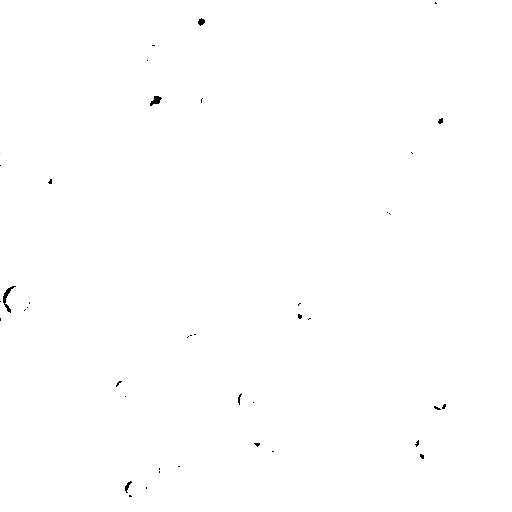micro-algae: (452, 0, 506, 39), (216, 23, 260, 69), (410, 445, 449, 487), (419, 383, 455, 419), (205, 49, 238, 86), (261, 193, 293, 226), (1, 282, 31, 316), (185, 4, 215, 38), (132, 42, 165, 69), (451, 45, 481, 73), (179, 272, 215, 295), (349, 411, 379, 435), (415, 431, 438, 461), (257, 435, 283, 461), (355, 301, 383, 325), (157, 457, 183, 481), (295, 297, 323, 319), (98, 461, 122, 486), (182, 332, 209, 354), (428, 105, 450, 131), (0, 142, 21, 167), (194, 0, 219, 21), (126, 480, 149, 501), (24, 0, 54, 16), (149, 92, 168, 117), (73, 393, 95, 414), (200, 88, 220, 111), (113, 378, 135, 398), (385, 199, 406, 219), (420, 1, 455, 13), (395, 149, 418, 167), (251, 428, 273, 446), (237, 390, 255, 411), (73, 271, 95, 288), (299, 315, 318, 333), (254, 150, 270, 170), (51, 409, 67, 428), (134, 303, 148, 323), (39, 171, 54, 185), (140, 337, 156, 350)
